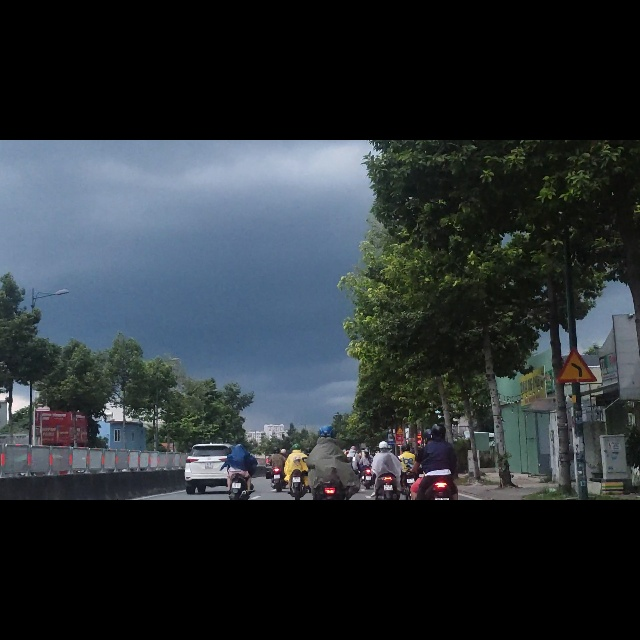bien_nguy_hiem: (555, 365, 598, 431)
